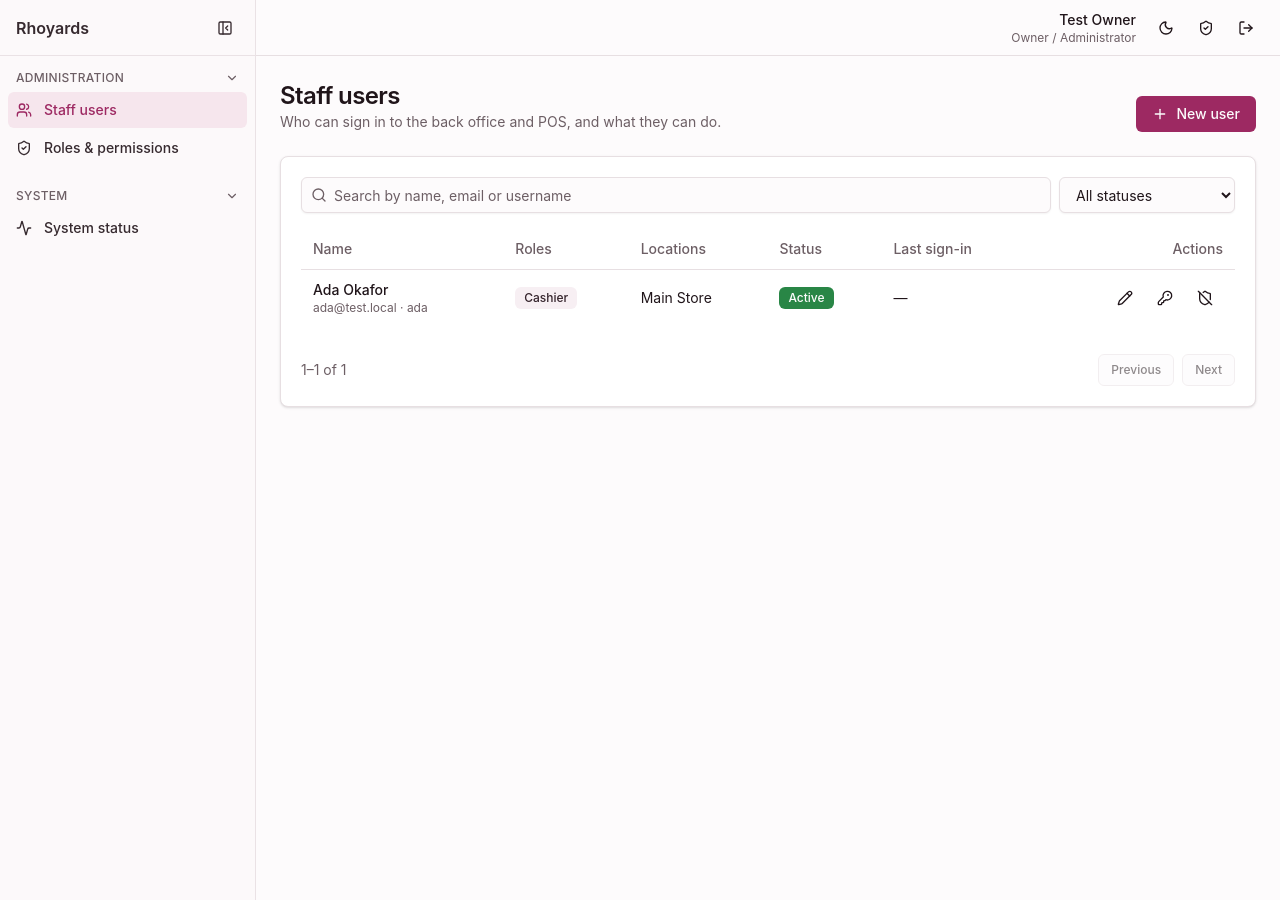
Test: UsersPage › resets a lost authenticator after confirmation
Click the button named "Reset two-step sign-in for Ada Okafor" at (1205, 298), box [1187,280,1223,316]
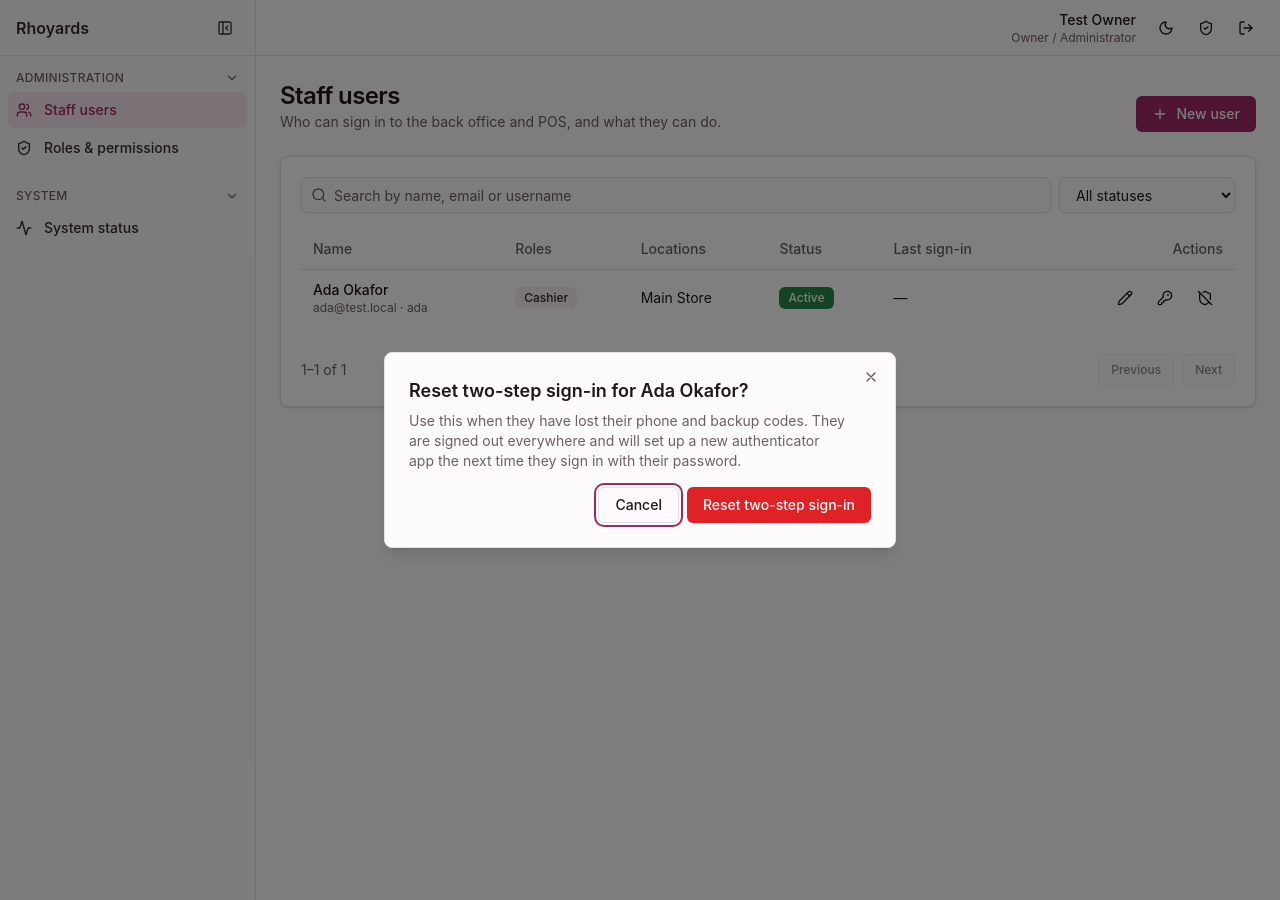
Expected: the text "lost their phone" is shown, [409,412,845,469]
Click the button "Reset two-step sign-in" at (779, 505), box [687,487,871,523]
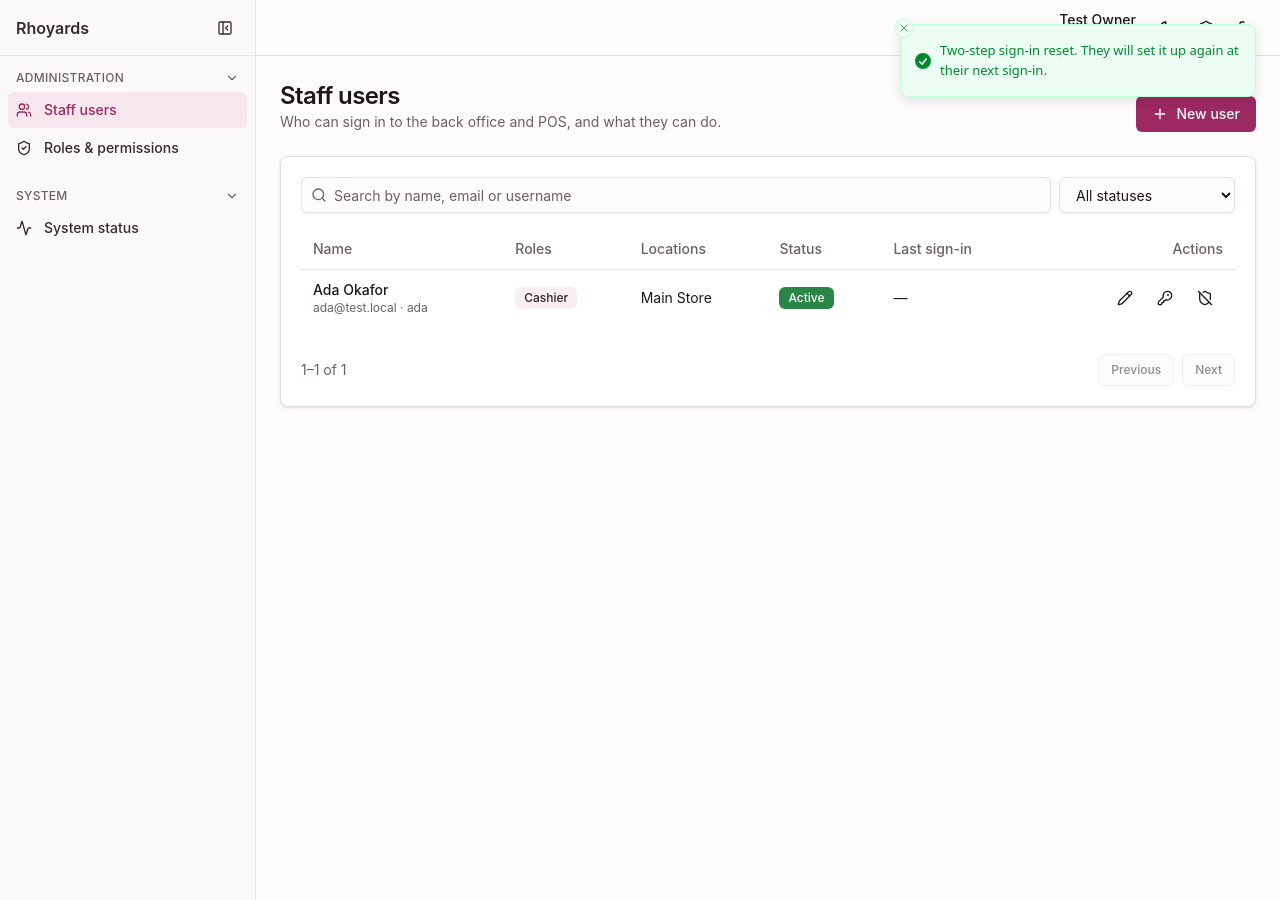
Expected: the text "Two-step sign-in reset" is shown, [940,41,1239,78]
